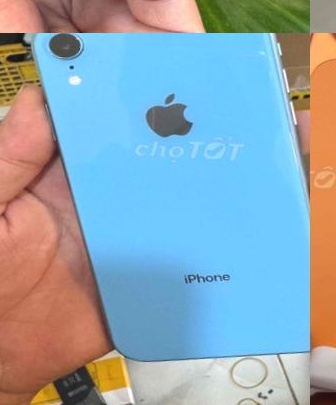scratch: (238, 37, 285, 72), (61, 33, 94, 52)
